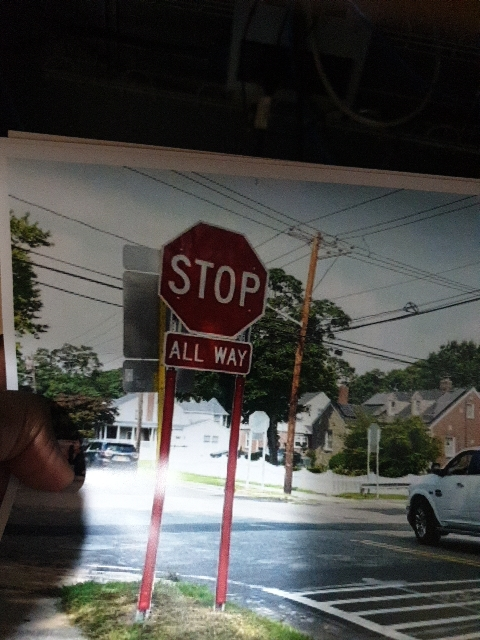stop: (164, 217, 282, 335)
